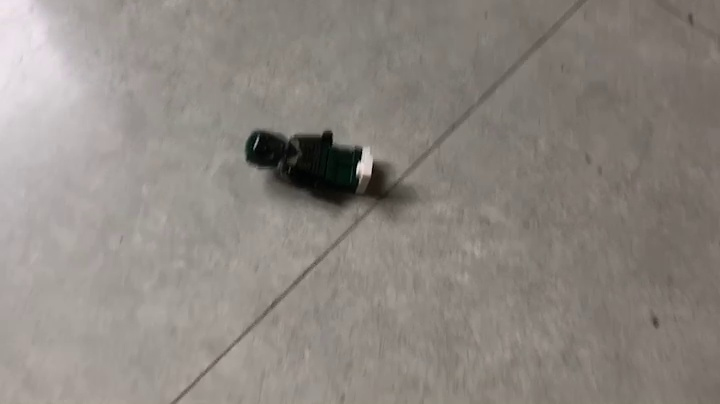people: (245, 127, 381, 205)
